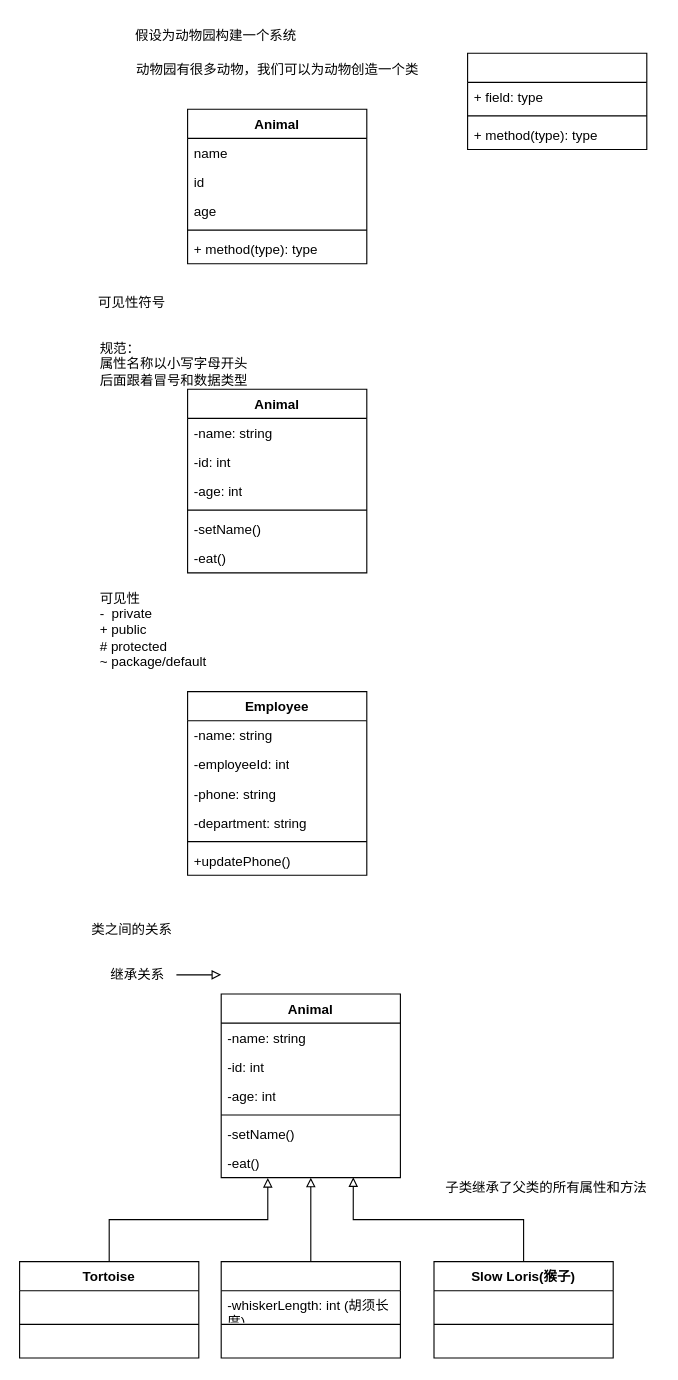
This 678x1380 diagram has some shape labels left out. Here are the shapes that lost their labels. From the top down, the box of each, then its label:
(466, 52, 647, 150): Classname
(220, 1261, 400, 1358): Otter(水獭)
